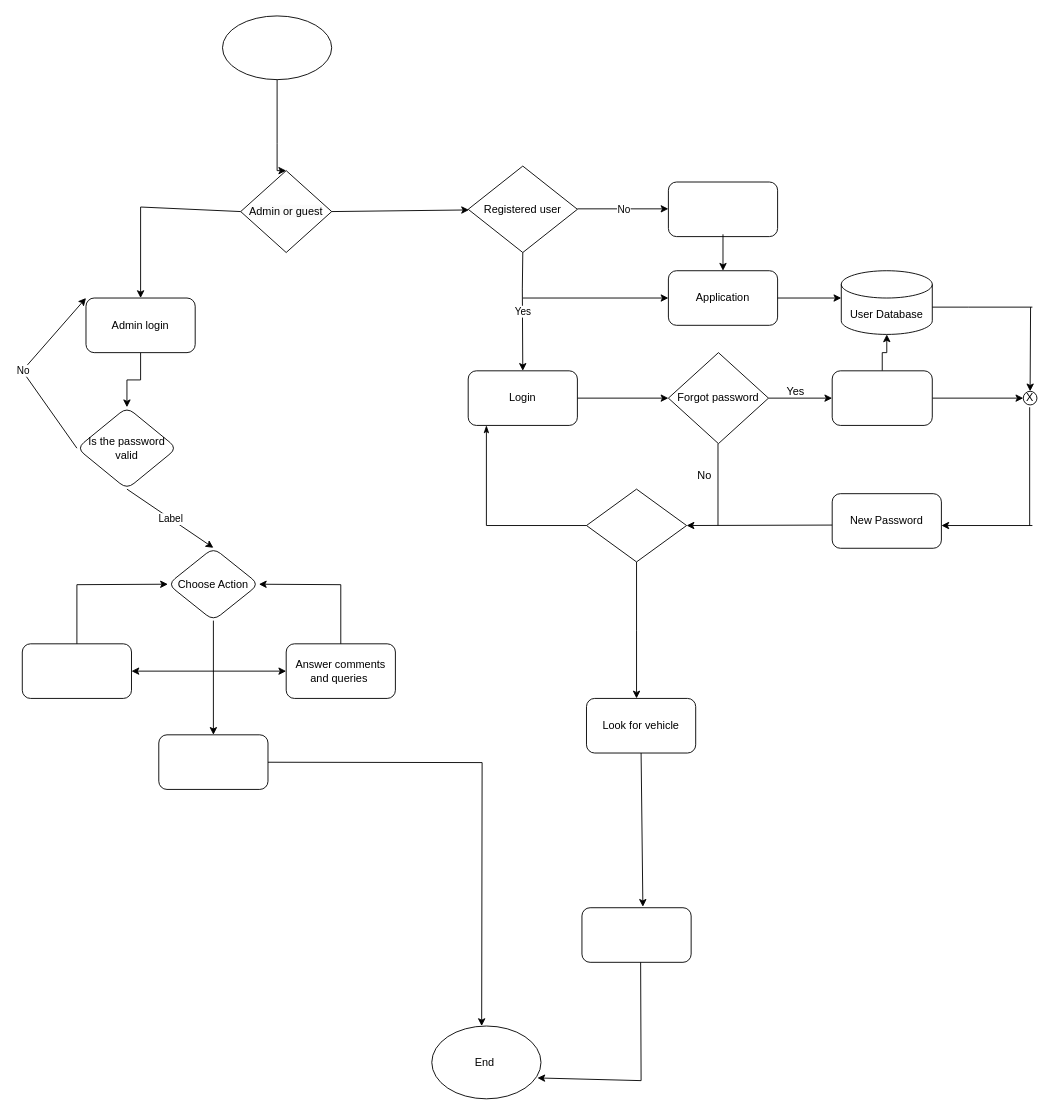
Some shapes in this 1056 by 1115 pixel diagram are drawn without their labels. The centre of each missing label's shape, as x and y in pixels:
Correct Password: (x=636, y=525)
Logout: (x=213, y=761)
Make payment: (x=636, y=934)
New User: (x=722, y=209)
Request New Password: (x=881, y=397)
Start: (x=277, y=47)
Update car library: (x=76, y=670)
